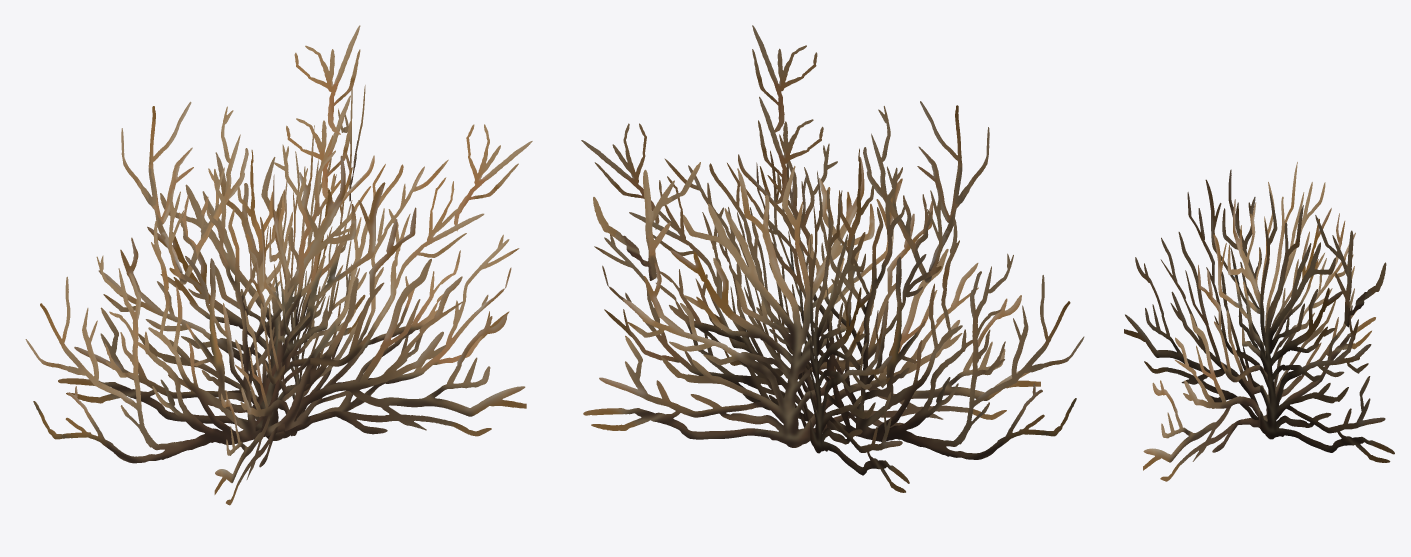
The model's file is DryShrub.FBX.
3 renders of one model, left to right at view 1: azimuth 30°, elevation 25°; view 2: azimuth 150°, elevation 25°; view 3: azimuth 270°, elevation 25°, orthographic. The views are drawn at different scales.
Parts seen in each view (by area): view 1: DryShrub_1; view 2: DryShrub_1; view 3: DryShrub_1.
Part boxes in pixels (x1=…): DryShrub_1: x1=25, y1=25, x2=532, y2=505; DryShrub_1: x1=581, y1=25, x2=1084, y2=492; DryShrub_1: x1=1124, y1=162, x2=1394, y2=481.
Bounding box in the file's own units: 19.75 × 15.1 × 10.12.
Materials: 1 (1 with a texture image).
